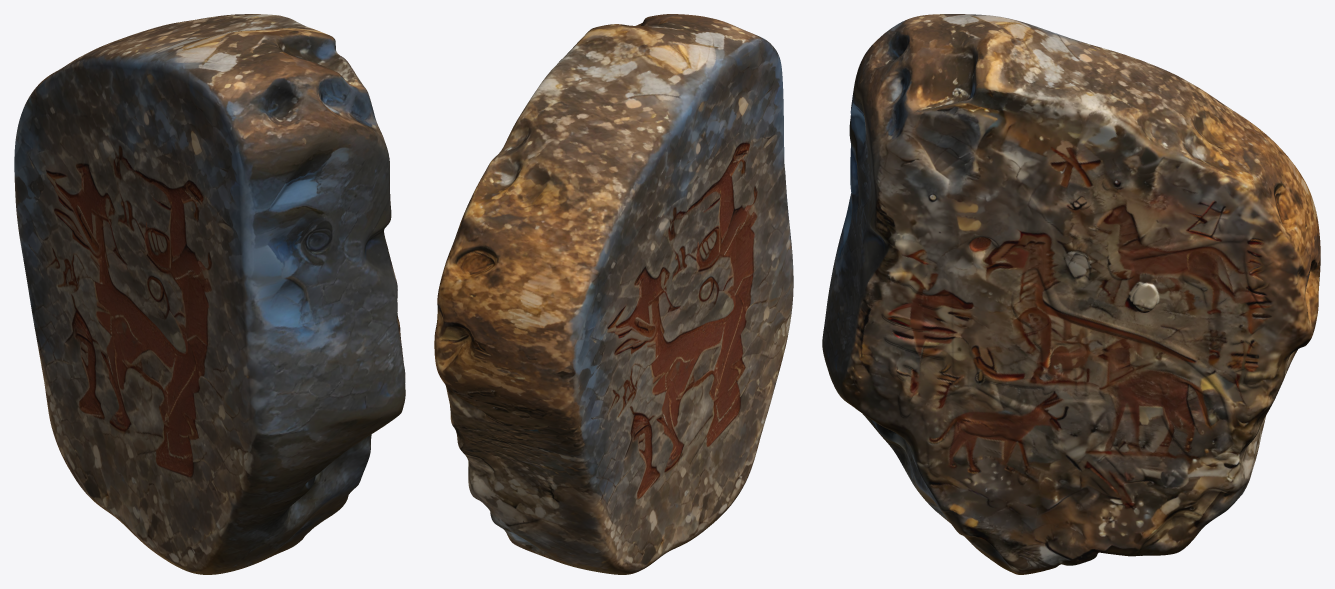
Rendered from Manyrak_3d_model.glb.
3 views of the same model, side by side, from view 1: azimuth 30°, elevation 25°; view 2: azimuth 150°, elevation 25°; view 3: azimuth 270°, elevation 25° (orthographic). The views are drawn at different scales.
Parts seen in each view (by area): view 1: tripo_node_5e61f689-819b-4c09-a795-d01c037dae7c; view 2: tripo_node_5e61f689-819b-4c09-a795-d01c037dae7c; view 3: tripo_node_5e61f689-819b-4c09-a795-d01c037dae7c.
Part boxes in pixels (x1,y1,x2,y2): tripo_node_5e61f689-819b-4c09-a795-d01c037dae7c: (14, 14, 405, 574); tripo_node_5e61f689-819b-4c09-a795-d01c037dae7c: (434, 14, 793, 574); tripo_node_5e61f689-819b-4c09-a795-d01c037dae7c: (822, 14, 1320, 574).
Bounding box in the file's own units: 0.3262 × 1 × 0.8852.
Materials: 1 (1 with a texture image).
